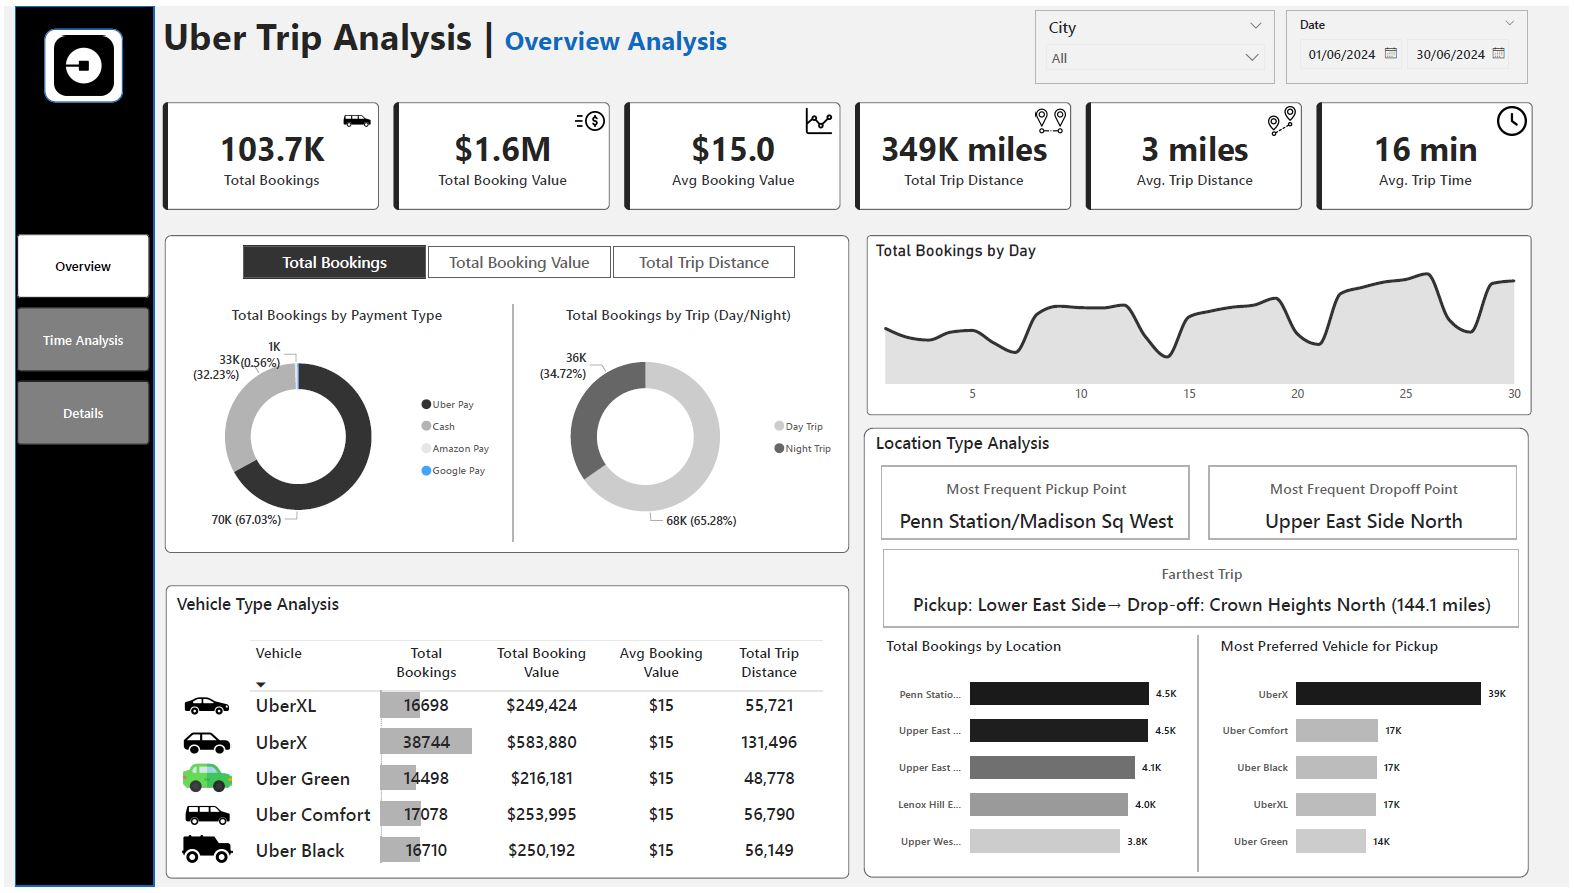

Layout of this report page (visuals, bound fields, positions):
{"tool":"powerbi","page":{"name":"Overview","canvas":[1600,900],"ordinal":0},"visuals":[{"type":"shape","box":[10.7,0,142,899.6],"z":0},{"type":"textbox","box":[156.8,0,589.6,63.3],"z":1000},{"type":"cardVisual","fields":{"Data":["Trip Details.Total Bookings","Trip Details.Total Booking Value","Trip Details.Average Booking Amount","Trip Details.Total Trip Distance","Trip Details.Avg. Trip Distance","Trip Details.Avg. Trip Time"]},"box":[156.8,93,1415,120],"z":2000},{"type":"image","box":[578.9,97.4,40,40],"z":3000},{"type":"image","box":[1049.6,97.4,40,40],"z":4000},{"type":"image","box":[1287.7,97.4,40,40],"z":5000},{"type":"image","box":[1522.1,97.4,40,40],"z":6000},{"type":"image","box":[813.4,97.4,40,40],"z":7000},{"type":"image","box":[340.9,97.4,40,40],"z":8000},{"type":"shape","box":[164.4,233.7,700,325.7],"z":9000},{"type":"slicer","fields":{"Values":["Dynamic Measure.Dynamic Measure"]},"box":[218.2,238.1,615,46.9],"z":10000},{"type":"donutChart","fields":{"Y":["Trip Details.Total Bookings"],"Category":["Trip Details.Payment_type"]},"box":[169.5,304.8,340.9,250.7],"z":11000},{"type":"donutChart","fields":{"Y":["Trip Details.Total Bookings"],"Category":["Trip Details.Trip Type (Day/Night)"]},"box":[519.4,304.8,340.9,250.7],"z":12000},{"type":"shape","box":[164.6,591.6,699.7,300],"z":13000},{"type":"pivotTable","fields":{"Rows":["Trip Details.Vehicle"],"Values":["Trip Details.Total Bookings","Trip Details.Total Booking Value","Trip Details.Avg Booking Value","Trip Details.Total Trip Distance Measure"]},"box":[247.2,643,610.7,244.7],"z":14000},{"type":"image","box":[172.4,685.4,70.8,60.7],"z":15000},{"type":"image","box":[172.4,831,70.8,60.7],"z":16000},{"type":"image","box":[172.4,760.3,70.8,58.6],"z":17000},{"type":"image","box":[172.4,796.7,70.8,60.7],"z":18000},{"type":"image","box":[172.4,723.9,70.8,58.6],"z":19000},{"type":"card","fields":{"Values":["Trip Details.Title for Grid"]},"box":[158,590.9,202.5,44.4],"z":20000},{"type":"shape","box":[882.3,233.7,679.8,184.4],"z":21000},{"type":"areaChart","fields":{"Category":["Calendar Table.Date.Variation.Date Hierarchy.Day"],"Y":["Trip Details.Total Bookings"]},"box":[885.8,238.6,673.4,176],"z":22000},{"type":"shape","box":[879,431.3,679.8,459.3],"z":23000},{"type":"cardVisual","fields":{"Data":["Trip Details.Most Frequent Pickup Point","Trip Details.Most Frequent Dropoff Point"]},"box":[892.2,465,660,85],"z":24000},{"type":"cardVisual","fields":{"Data":["Trip Details.Farthest Trip"]},"box":[894.2,550,660,90],"z":25000},{"type":"barChart","fields":{"Category":["Location Table.Location"],"Y":["Trip Details.Total Bookings"]},"box":[897.1,642.8,311,244.7],"z":26000},{"type":"barChart","title":"Most Preferred Vehicle for Pickup","fields":{"Category":["Trip Details.Vehicle"],"Y":["CountNonNull(Trip Details.PULocationID)"]},"box":[1238.9,642.8,311.4,244.7],"z":27000},{"type":"shape","box":[1194.3,642.9,52.7,242],"z":28000},{"type":"card","fields":{"Values":["Trip Details.Title for Location"]},"box":[879,432,202.5,31.3],"z":29000},{"type":"slicer","fields":{"Values":["Calendar Table.Date"]},"box":[1311,4,246.7,74.8],"z":30000},{"type":"slicer","fields":{"Values":["Location Table.City"]},"box":[1053.6,4,246.7,74.8],"z":31000},{"type":"shape","box":[493.8,304.5,52.7,242],"z":32000},{"type":"group","id":"g1","title":"Group 1","box":[41.4,23.2,80,75],"z":33000},{"type":"shape","box":[41.4,23.2,80,75],"z":33000,"group":"g1"},{"type":"image","box":[43.1,24.9,77.8,71.1],"z":34000,"group":"g1"},{"type":"pageNavigator","box":[13.2,233.3,135,215.1],"z":34000}]}

Visuals, with their boxes in screenshot pixels (x1, y1, x2, y2), scaled from the page's 1600x900 canvas onto the 1574x893 screenshot:
shape: 11:0:150:892
textbox: 154:0:734:63
cardVisual - Trip Details.Total Bookings x Trip Details.Total Booking Value: 154:92:1546:211
image: 569:97:609:136
image: 1033:97:1072:136
image: 1267:97:1306:136
image: 1497:97:1537:136
image: 800:97:840:136
image: 335:97:375:136
shape: 162:232:850:555
slicer - Dynamic Measure.Dynamic Measure: 215:236:820:283
donutChart - Trip Details.Total Bookings x Trip Details.Payment_type: 167:302:502:551
donutChart - Trip Details.Total Bookings x Trip Details.Trip Type (Day/Night): 511:302:846:551
shape: 162:587:850:885
pivotTable - Trip Details.Vehicle x Trip Details.Total Bookings: 243:638:844:881
image: 170:680:239:740
image: 170:825:239:885
image: 170:754:239:813
image: 170:791:239:851
image: 170:718:239:776
card - Trip Details.Title for Grid: 155:586:355:630
shape: 868:232:1537:415
areaChart - Calendar Table.Date.Variation.Date Hierarchy.Day x Trip Details.Total Bookings: 871:237:1534:411
shape: 865:428:1533:884
cardVisual - Trip Details.Most Frequent Pickup Point x Trip Details.Most Frequent Dropoff Point: 878:461:1527:546
cardVisual - Trip Details.Farthest Trip: 880:546:1529:635
barChart - Location Table.Location x Trip Details.Total Bookings: 883:638:1188:881
"Most Preferred Vehicle for Pickup" barChart: 1219:638:1525:881
shape: 1175:638:1227:878
card - Trip Details.Title for Location: 865:429:1064:460
slicer - Calendar Table.Date: 1290:4:1532:78
slicer - Location Table.City: 1036:4:1279:78
shape: 486:302:538:542
"Group 1" group: 41:23:119:97
shape: 41:23:119:97
image: 42:25:119:95
pageNavigator: 13:231:146:445
